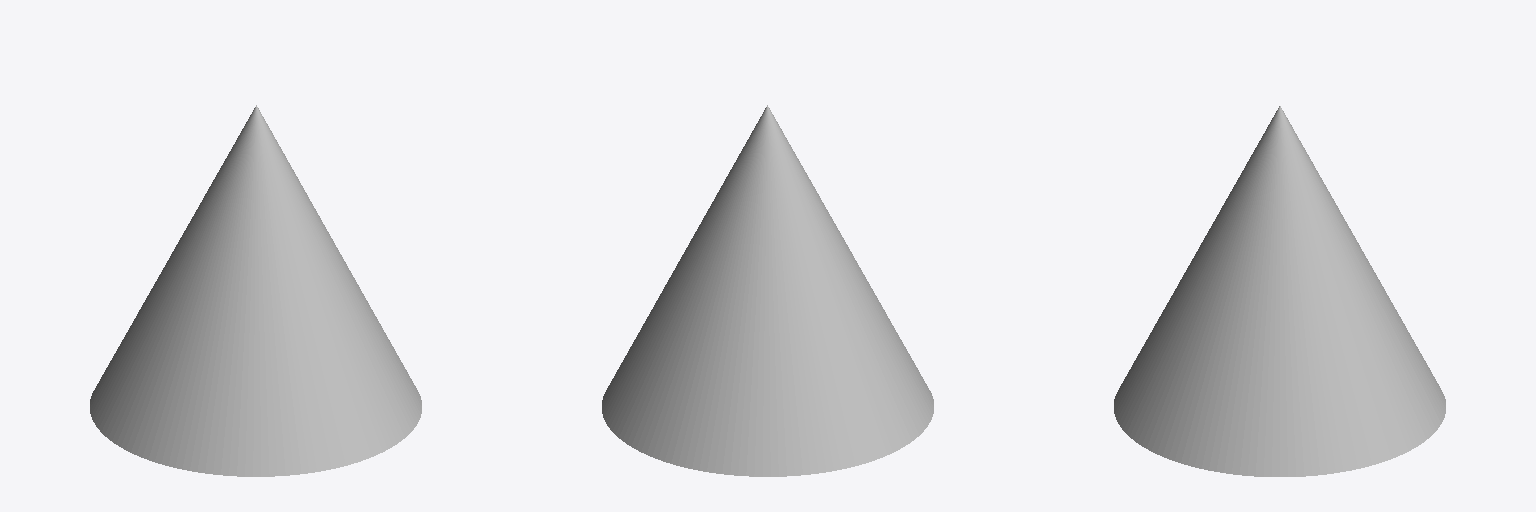
The model's file is punta.obj.
3 renders of one model, left to right at view 1: azimuth 30°, elevation 25°; view 2: azimuth 150°, elevation 25°; view 3: azimuth 270°, elevation 25°, orthographic.
Parts seen in each view (by area): view 1: Cono_Cono.001; view 2: Cono_Cono.001; view 3: Cono_Cono.001.
Boxes of the visible parts, <box> form: Cono_Cono.001: <box>90,105,421,476</box>; Cono_Cono.001: <box>602,105,933,476</box>; Cono_Cono.001: <box>1114,106,1445,476</box>.
Size of the model in its own units: 0.02 by 0.02 by 0.02.